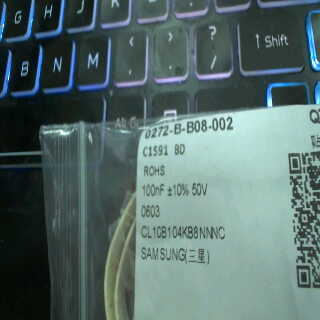100nF: (140, 180, 167, 202)
